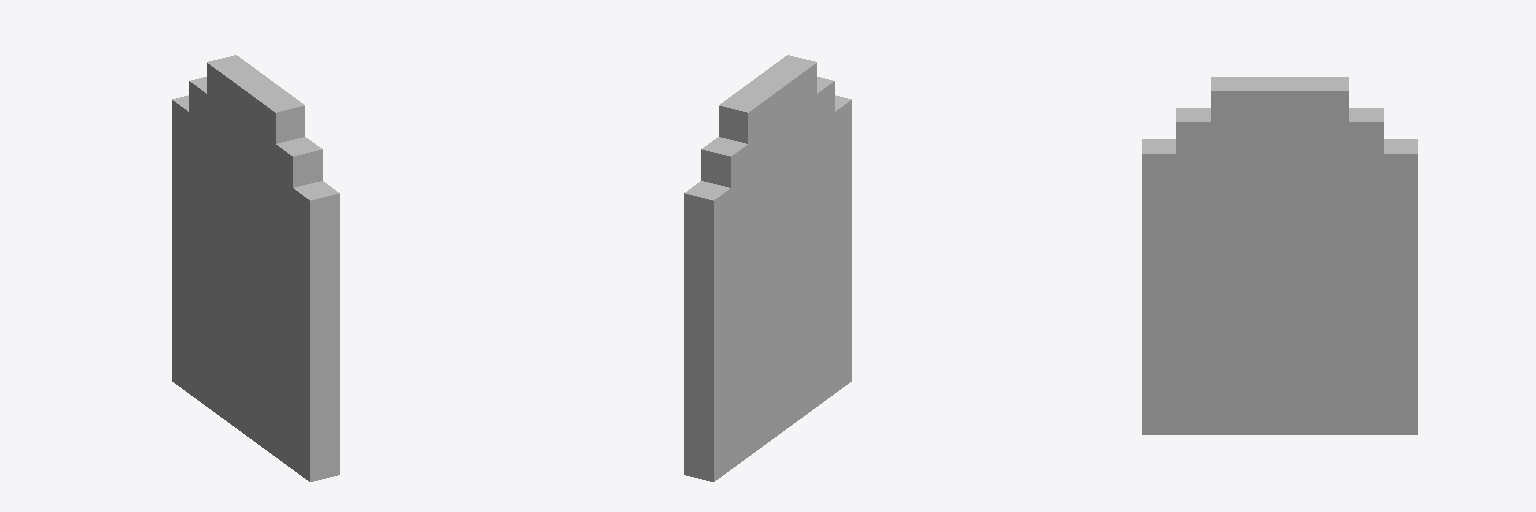
Rendered from --3-F8 - Door.obj.
3 renders of one model, left to right at view 1: azimuth 30°, elevation 25°; view 2: azimuth 150°, elevation 25°; view 3: azimuth 270°, elevation 25°, orthographic.
Visible parts, largest first — view 1: F8 - Door; view 2: F8 - Door; view 3: F8 - Door.
Part boxes in pixels (x1,y1,x2,y2): F8 - Door: (172,55,339,481); F8 - Door: (684,55,851,481); F8 - Door: (1142,77,1417,434).
Size of the model in its own units: 0.1 by 1.1 by 0.8.